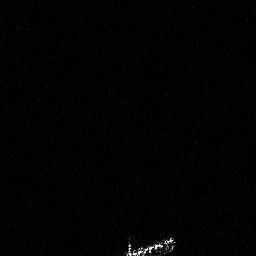ship: (119, 230, 177, 256)
